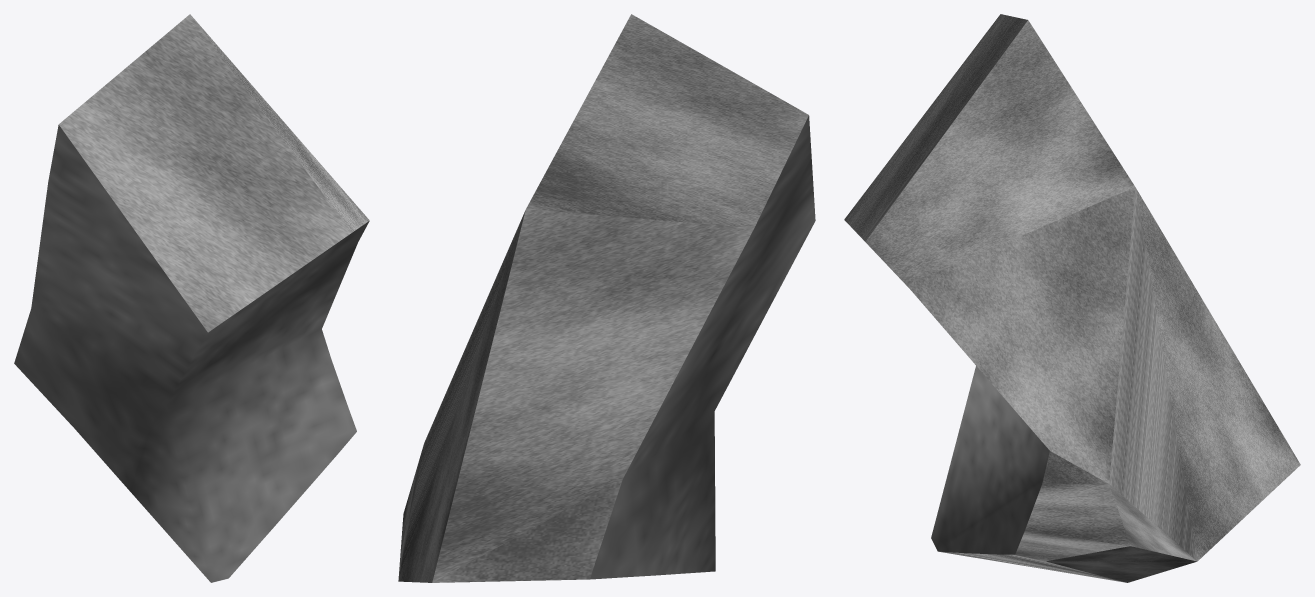
The model's file is leg_2_cell_013.fbx.
3 views of the same model, side by side, from view 1: azimuth 30°, elevation 25°; view 2: azimuth 150°, elevation 25°; view 3: azimuth 270°, elevation 25° (orthographic). The views are drawn at different scales.
Parts seen in each view (by area): view 1: leg_2_cell.013; view 2: leg_2_cell.013; view 3: leg_2_cell.013.
Part boxes in pixels (x1,y1,x2,y2): leg_2_cell.013: [14, 14, 369, 582]; leg_2_cell.013: [398, 14, 815, 582]; leg_2_cell.013: [844, 14, 1300, 582].
Size of the model in its own units: 23.12 by 38.32 by 29.67.
